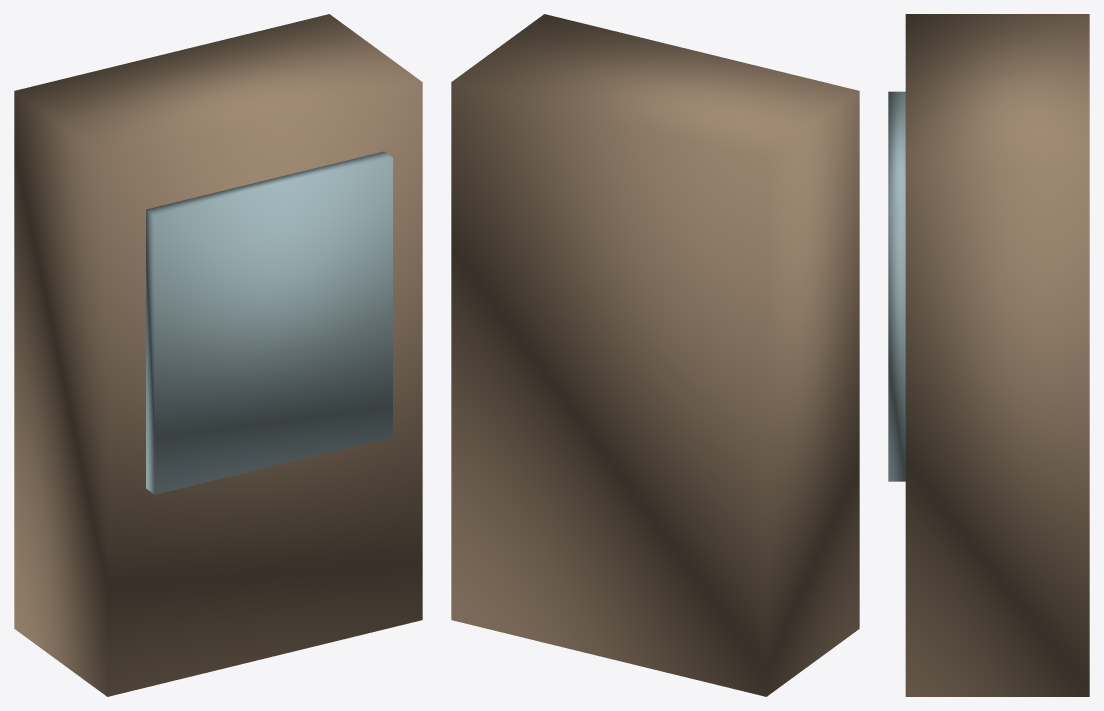
File: shrine_cabinet__reinforced.glb
3 renders of one model, left to right at view 1: azimuth 30°, elevation 25°; view 2: azimuth 150°, elevation 25°; view 3: azimuth 270°, elevation 25°, orthographic.
Parts seen in each view (by area): view 1: world; view 2: world; view 3: world.
Boxes of the visible parts, x1,y1,x2,y2 form: world: (14,14,422,696); world: (451,14,859,696); world: (888,14,1089,696).
Bounding box in the file's own units: 0.8446 × 1.38 × 0.4738.
